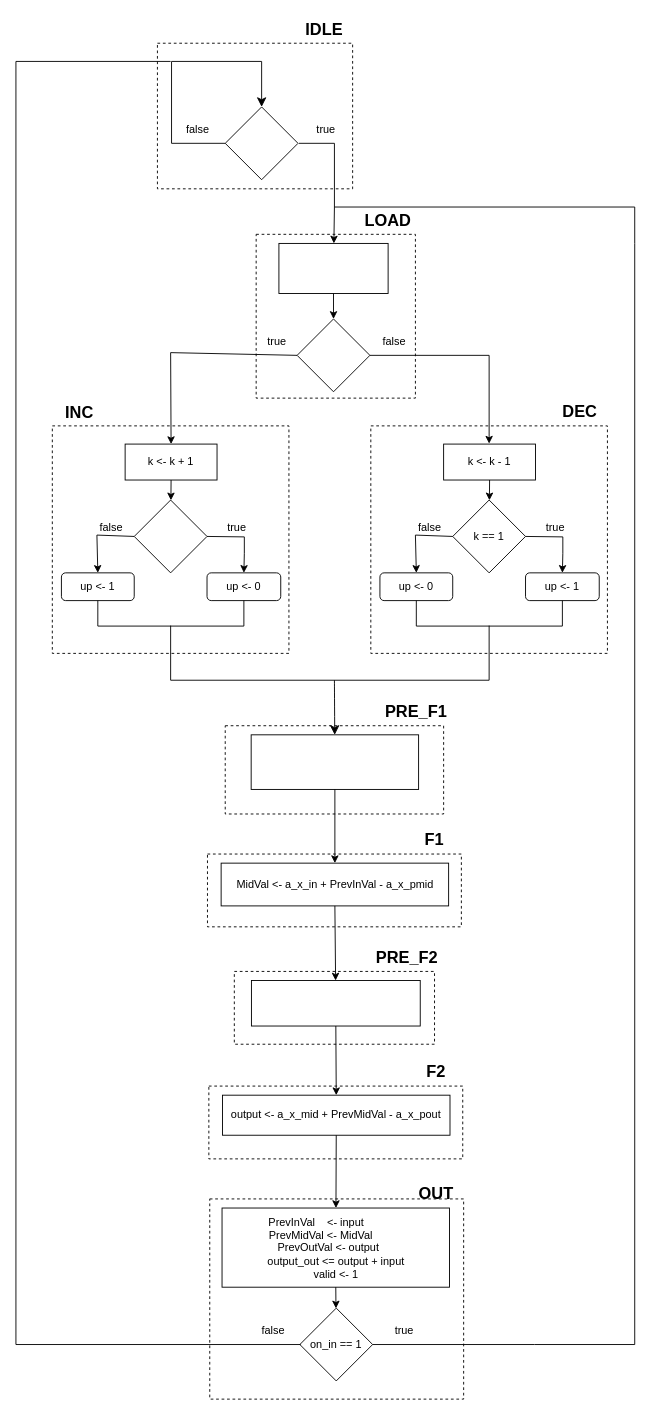
Some shapes in this 658 by 1415 pixel diagram are drawn without their labels. Here are the shapes that lost their labels. From the top down, the centre of each, then its label:
At [261,143]: "on == 1".
At [333,268]: "input <- input_in a <- mod[k] valid <- 0".
At [333,355]: "up == 1".
At [170,536]: "k == 22048".
At [334,761]: "a_x_in <- a * input a_x_pmid <- a * PrevMidVal".
At [335,1003]: "a_x_mid <- a * MidVal a_x_pout <- a * PrevOutVal".
